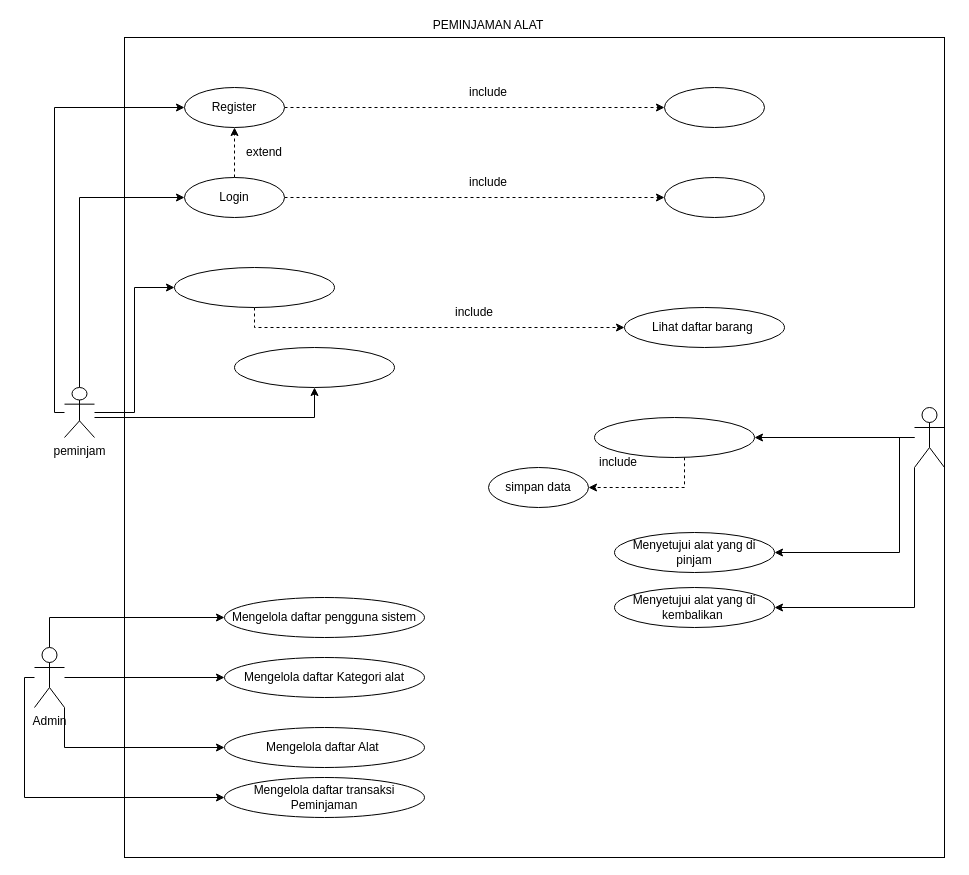
The diagram is 969 pixels wide and 875 high, and some of its shapes have lost their labels. The centre of each missing label's shape, as x and y in pixels:
Ajukan peminjam alat: (254,287)
Autentikasi: (714,197)
Lihat riwayat peminjam: (314,367)
Pencatatan pengajuan dan transaksi: (674,437)
Petugas: (929,437)
Validasi Informasi: (714,107)
